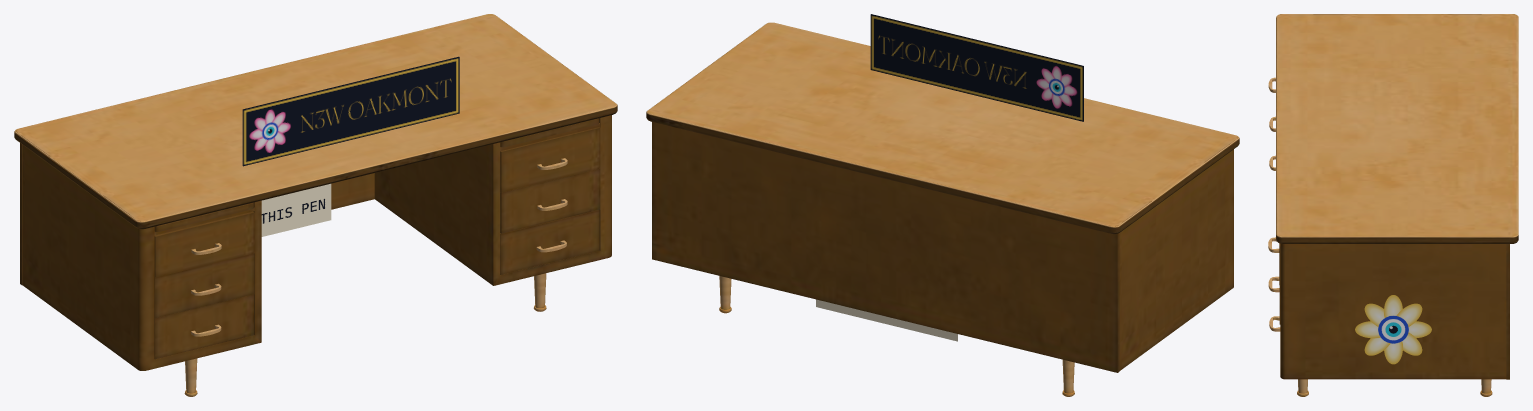
The model's file is nyb_wolf_desk.glb.
3 renders of one model, left to right at view 1: azimuth 30°, elevation 25°; view 2: azimuth 150°, elevation 25°; view 3: azimuth 270°, elevation 25°, orthographic. The views are drawn at different scales.
Parts seen in each view (by area): view 1: metal_office_desk_drawer_06, add_lbl_a4f16bde6e.png, stk_lbl_361278a390.png; view 2: metal_office_desk_drawer_06, add_lbl_a4f16bde6e.png, stk_lbl_361278a390.png; view 3: metal_office_desk_drawer_06, stk_eyeflower_gold.png.
Part boxes in pixels (x1,y1,x2,y2): metal_office_desk_drawer_06: (14, 14, 617, 396); add_lbl_a4f16bde6e.png: (242, 56, 459, 166); stk_lbl_361278a390.png: (261, 183, 331, 236); metal_office_desk_drawer_06: (646, 22, 1239, 396); add_lbl_a4f16bde6e.png: (870, 14, 1083, 121); stk_lbl_361278a390.png: (816, 299, 957, 341); metal_office_desk_drawer_06: (1268, 14, 1518, 396); stk_eyeflower_gold.png: (1355, 295, 1431, 364).
Bounding box in the file's own units: 2 × 1.03 × 0.9472.
4 materials, 4 textured.
